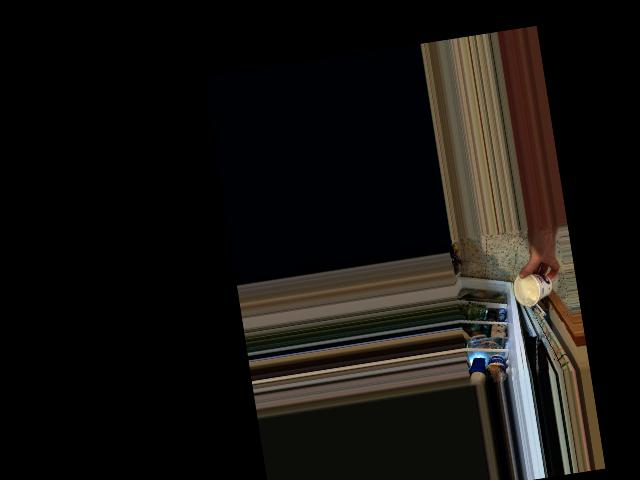cotage: (512, 266, 556, 306)
